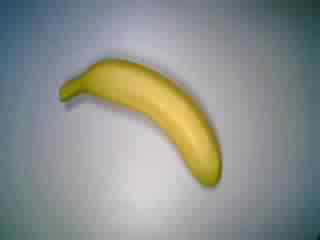banana: (58, 58, 226, 189)
